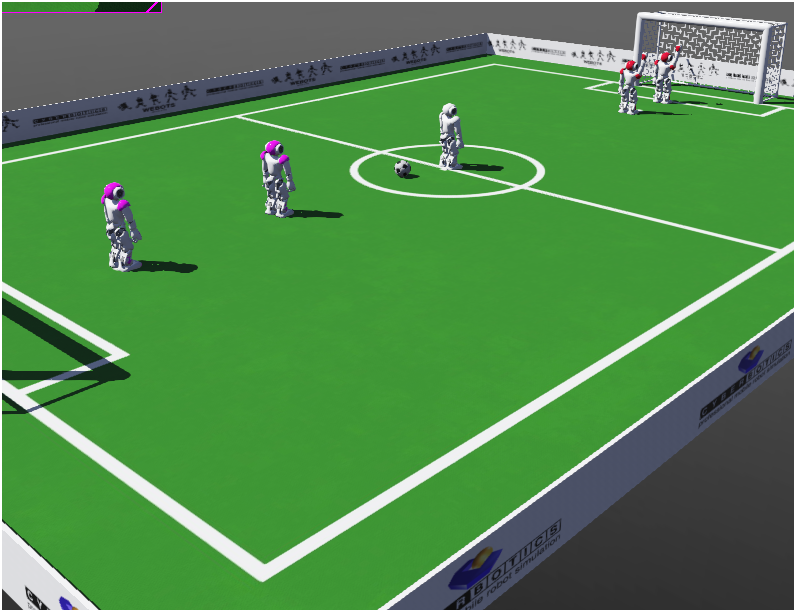Ball: (391, 158, 415, 182)
Goal: (632, 10, 774, 106), (618, 64, 619, 68)
Player: (108, 155, 147, 276), (257, 124, 306, 208), (618, 52, 681, 108), (427, 100, 473, 164)
